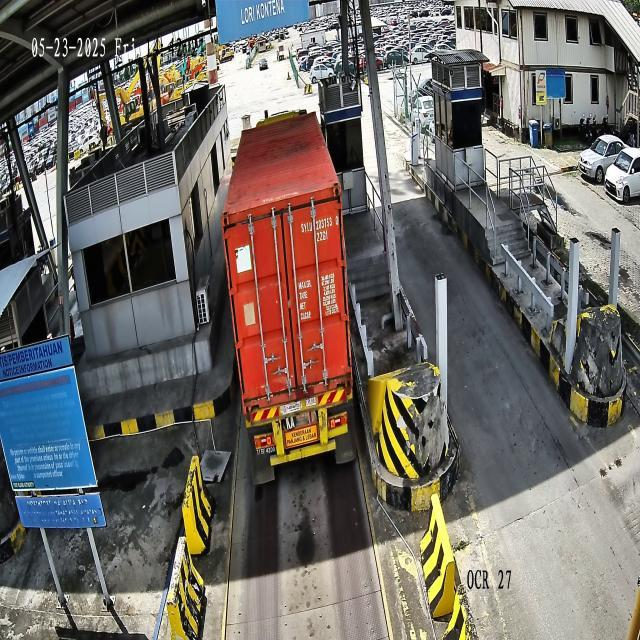ISO: (316, 230, 328, 242)
container_number: (301, 214, 339, 233)
